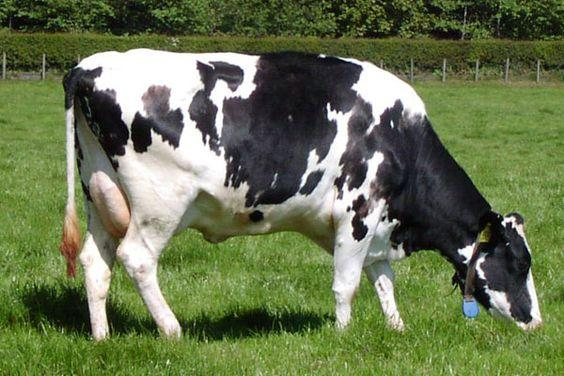cow: (44, 30, 564, 336)
